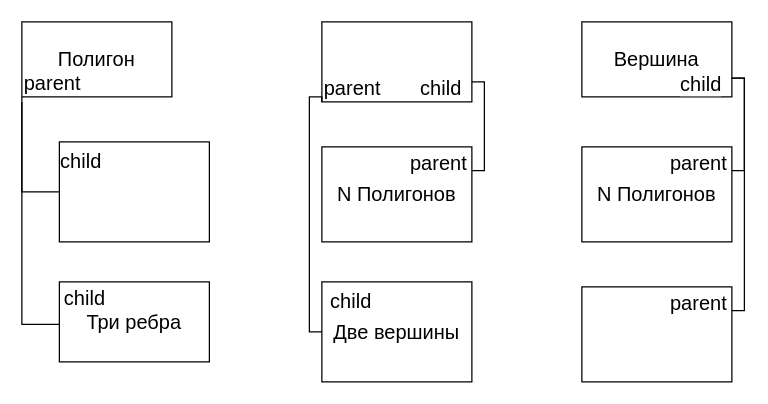
The diagram is 768 pixels wide and 404 high, and some of its shapes have lost their labels. The shapes that lost their labels are listed below. From the top down, each one's centre as x and y in pixels, then its label:
point (396, 61): Ребро
point (133, 191): Три вершины
point (656, 334): N Вершин
